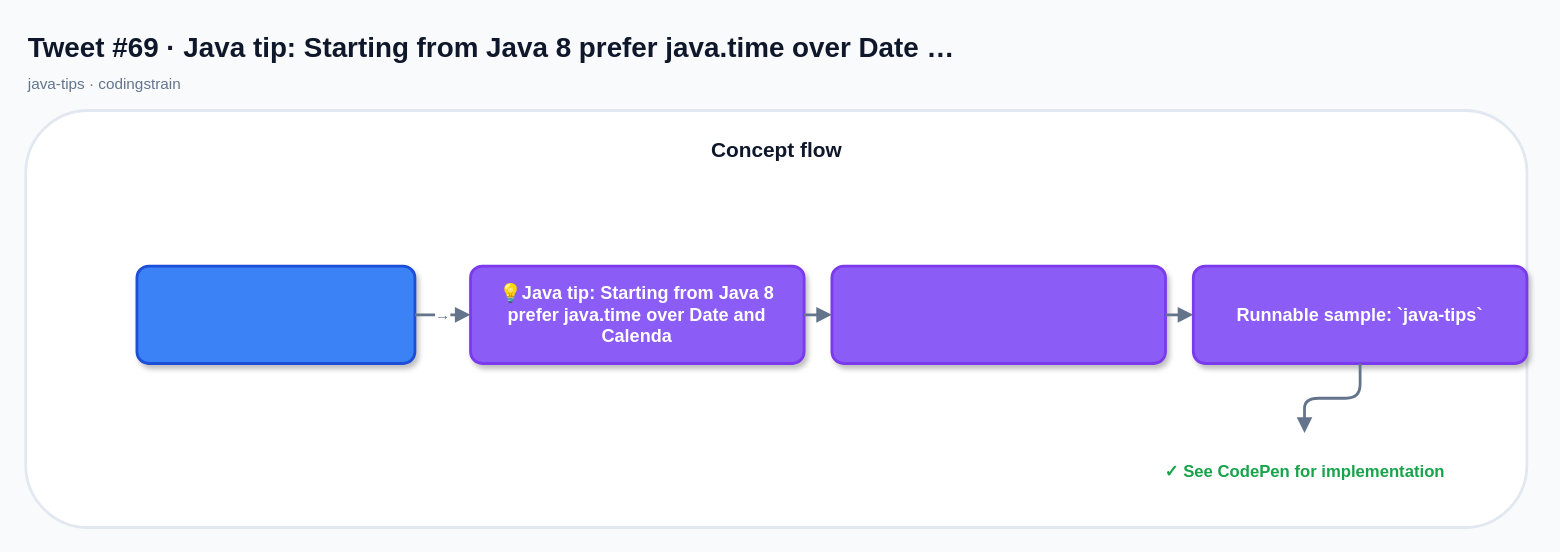
This 1560x552 diagram has some shape labels left out. Here are the shapes that lost their labels. From the top down, the centre of each, then its label:
At point (276, 316): "Problem / context".
At point (999, 316): "#ModernJava #DevTips".
